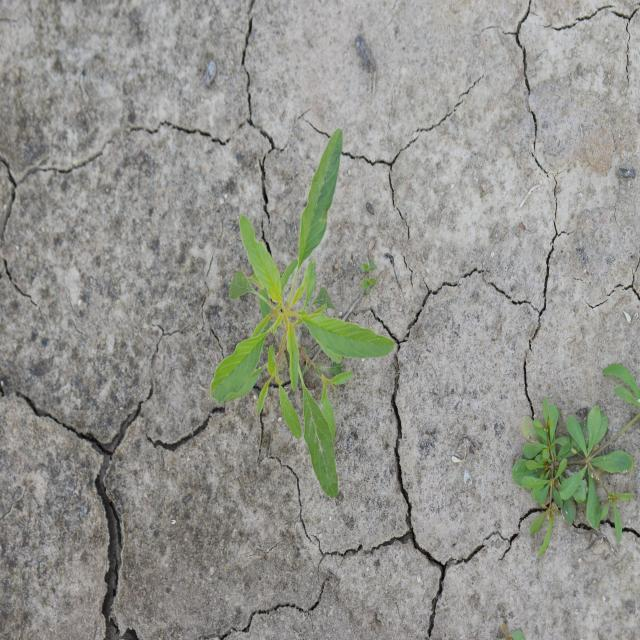Carpetweed: (510, 362, 639, 560)
Waterhemp: (209, 125, 396, 502)
